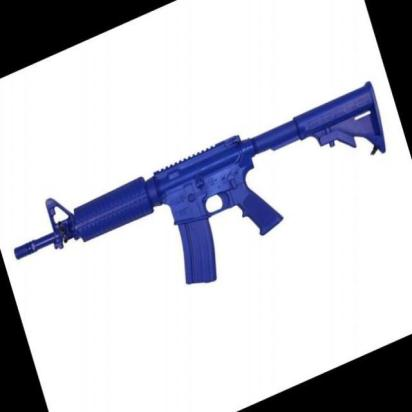Gun: (12, 80, 386, 286)
